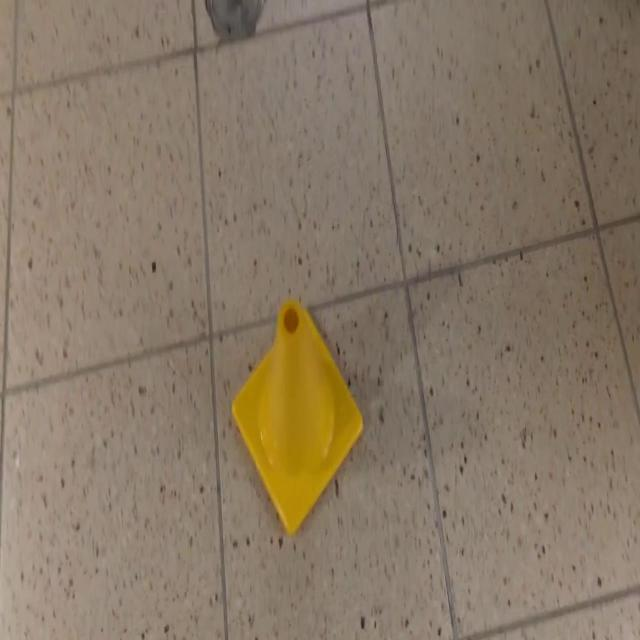frc_cone: (232, 300, 364, 538)
